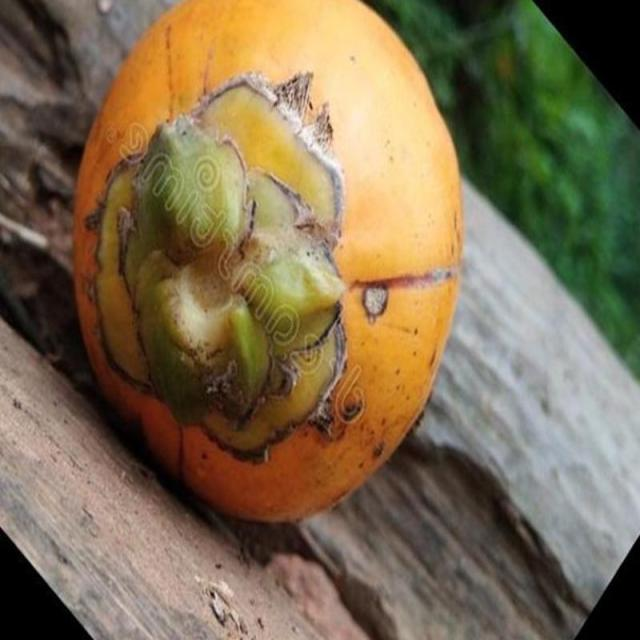good: (70, 0, 466, 529)
